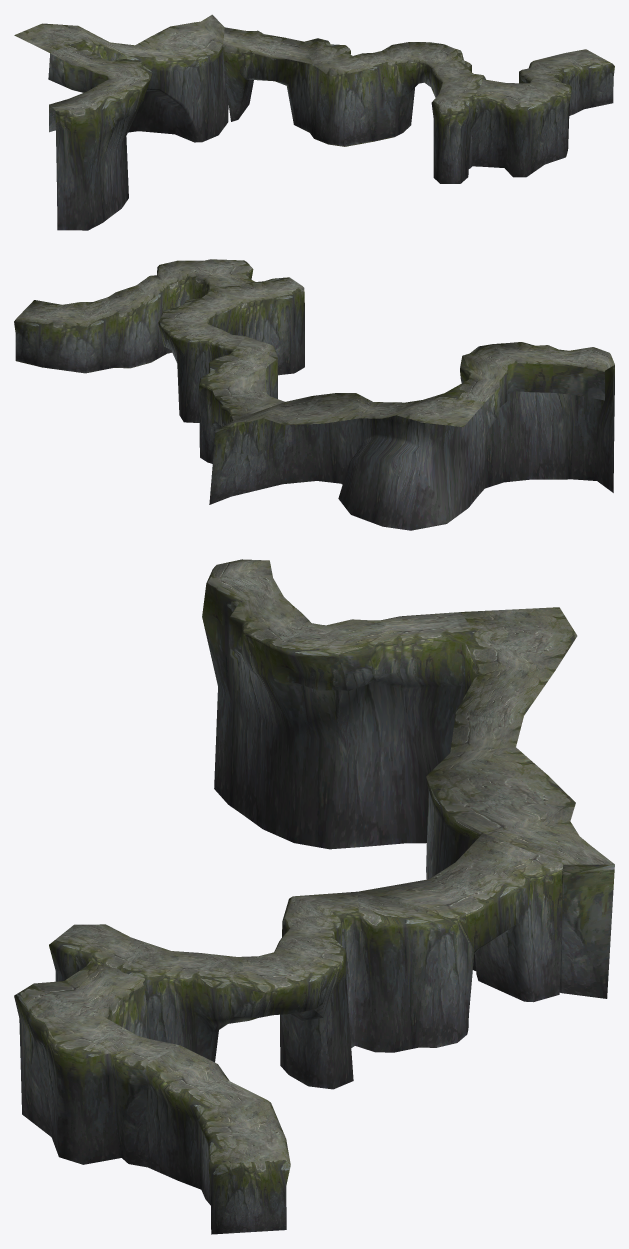
File: environment_stone_shibi_001_a.FBX
3 views of the same model, one above another, from view 1: azimuth 30°, elevation 25°; view 2: azimuth 150°, elevation 25°; view 3: azimuth 270°, elevation 25° (orthographic). The views are drawn at different scales.
Visible parts, largest first — view 1: environment_stone_shibi_001_b1, environment_stone_shibi_001_c1, environment_stone_shibi_001_a1; view 2: environment_stone_shibi_001_b1, environment_stone_shibi_001_c1, environment_stone_shibi_001_a1; view 3: environment_stone_shibi_001_b1, environment_stone_shibi_001_c1, environment_stone_shibi_001_a1.
Boxes of the visible parts, x1,y1,x2,y2 form: environment_stone_shibi_001_b1: [14, 14, 228, 230]; environment_stone_shibi_001_c1: [223, 27, 485, 183]; environment_stone_shibi_001_a1: [471, 49, 614, 177]; environment_stone_shibi_001_b1: [209, 342, 614, 530]; environment_stone_shibi_001_c1: [158, 277, 304, 463]; environment_stone_shibi_001_a1: [14, 259, 255, 373]; environment_stone_shibi_001_b1: [202, 559, 614, 998]; environment_stone_shibi_001_c1: [49, 833, 563, 1089]; environment_stone_shibi_001_a1: [14, 960, 290, 1234].
Bounding box in the file's own units: 236 × 50.41 × 129.
1 material, 1 textured.
